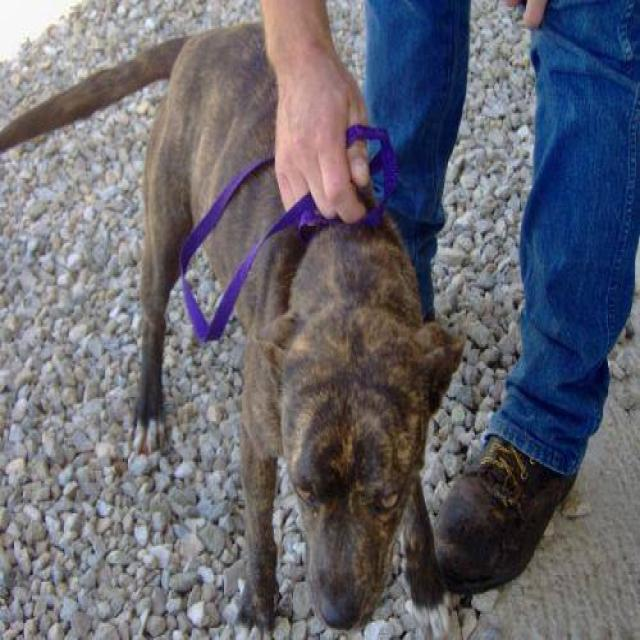dog: (0, 17, 466, 633)
